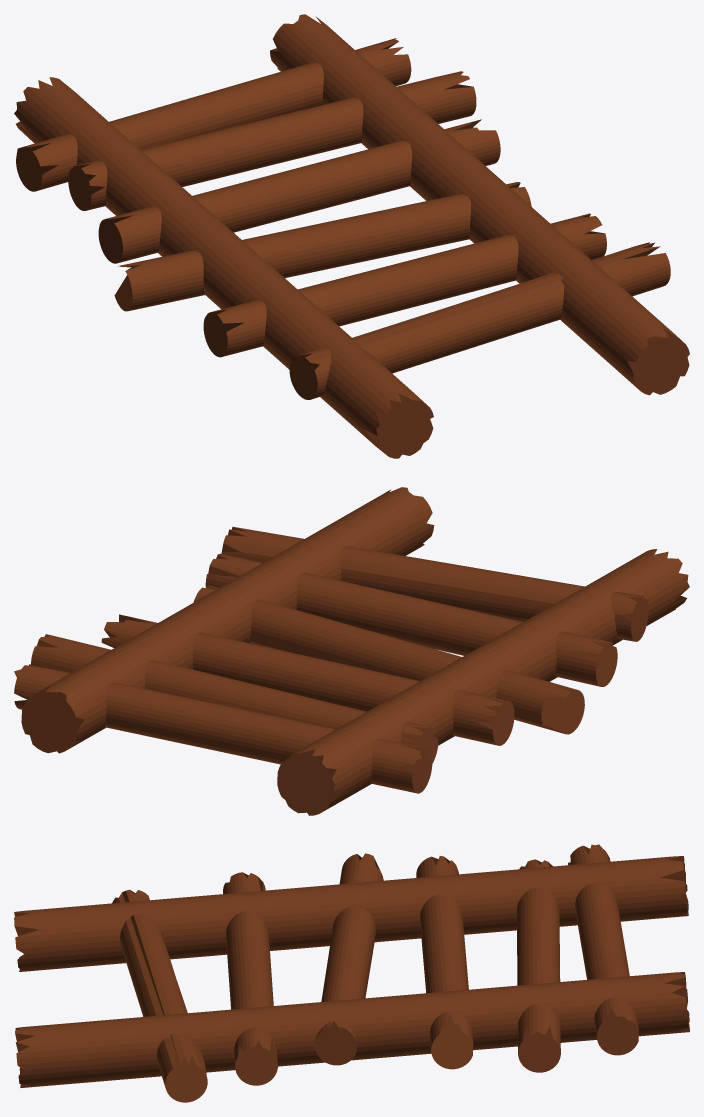
File: ladder.fbx.fbx
3 renders of one model, top to bottom at view 1: azimuth 30°, elevation 25°; view 2: azimuth 150°, elevation 25°; view 3: azimuth 270°, elevation 25°, orthographic. The views are drawn at different scales.
Visible parts, largest first — view 1: Cylinder.001, Cylinder.004, Cylinder.006, Cylinder.003, Cylinder.005, Cylinder.002, Cylinder.007; view 2: Cylinder.001, Cylinder.007, Cylinder.003, Cylinder.002, Cylinder.005, Cylinder.004, Cylinder.006; view 3: Cylinder.001, Cylinder.002, Cylinder.005, Cylinder.003, Cylinder.007, Cylinder.006, Cylinder.004.
Boxes of the visible parts, x1,y1,x2,y2 form: Cylinder.001: (14,14,689,458); Cylinder.004: (114,182,531,311); Cylinder.006: (68,71,476,210); Cylinder.003: (203,213,606,357); Cylinder.005: (98,119,500,263); Cylinder.002: (289,242,670,399); Cylinder.007: (16,38,411,191); Cylinder.001: (21,487,689,815); Cylinder.007: (14,664,432,793); Cylinder.003: (205,553,617,686); Cylinder.002: (221,526,648,641); Cylinder.005: (101,614,514,745); Cylinder.004: (193,585,584,734); Cylinder.006: (31,634,438,763); Cylinder.001: (14,856,689,1087); Cylinder.002: (112,889,207,1102); Cylinder.005: (416,856,473,1069); Cylinder.003: (223,872,277,1085); Cylinder.007: (568,844,639,1055); Cylinder.006: (516,859,560,1072); Cylinder.004: (315,853,383,1065).
Bounding box in the file's own units: 5.07 × 1.3 × 7.23.
